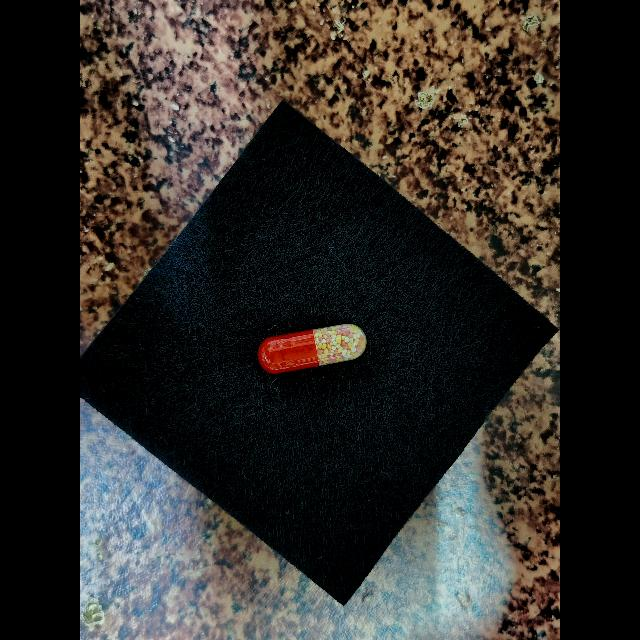Intact Capsule: (258, 324, 367, 374)
